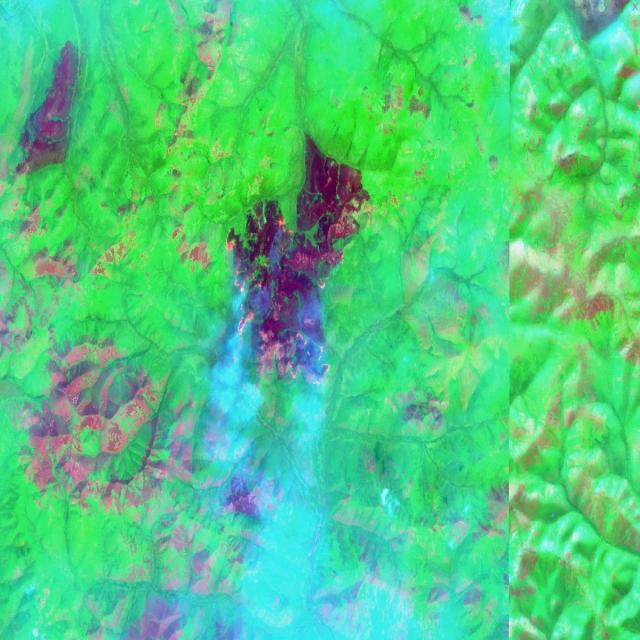fire: (225, 196, 349, 356)
